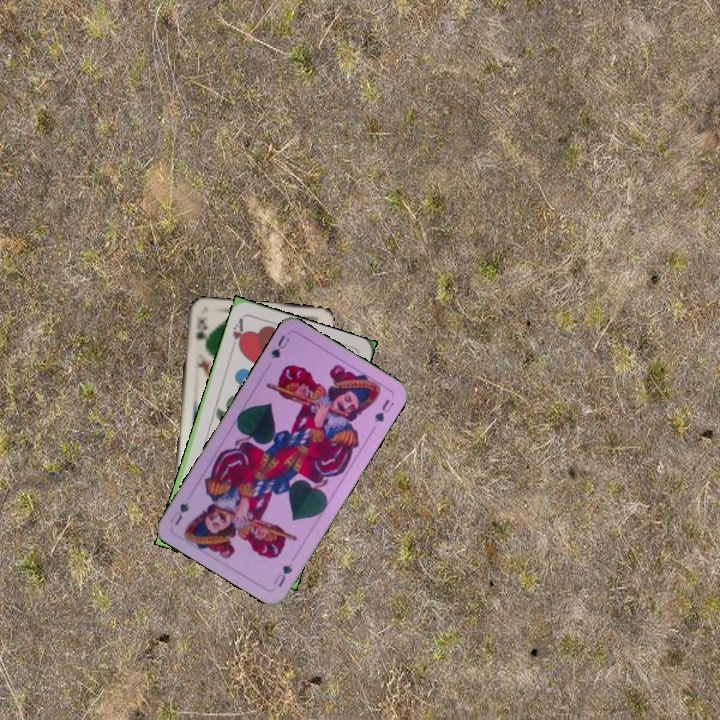GK: (192, 315, 207, 343)
GU: (269, 560, 295, 590), (267, 331, 292, 362)
HA: (227, 313, 248, 353)
